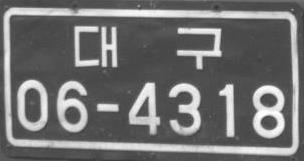0: (16, 77, 48, 132)
1: (213, 83, 245, 137)
3: (168, 82, 200, 136)
4: (128, 82, 160, 134)
6: (55, 79, 88, 132)
8: (252, 84, 285, 139)
대구_D: (74, 24, 223, 70)
